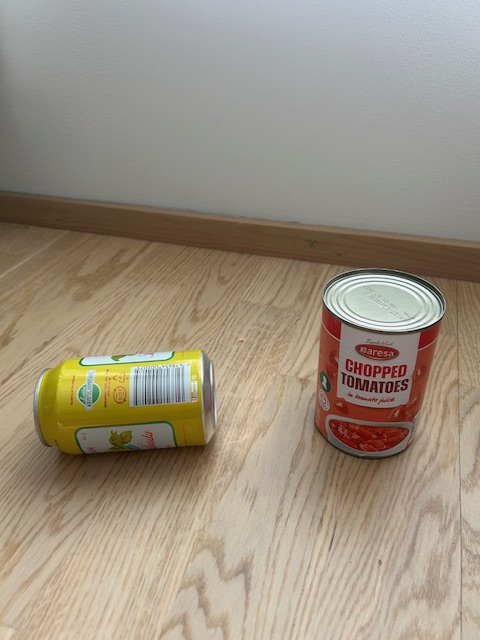Konservburk: (313, 267, 448, 459)
Pantburk: (33, 348, 218, 455)
